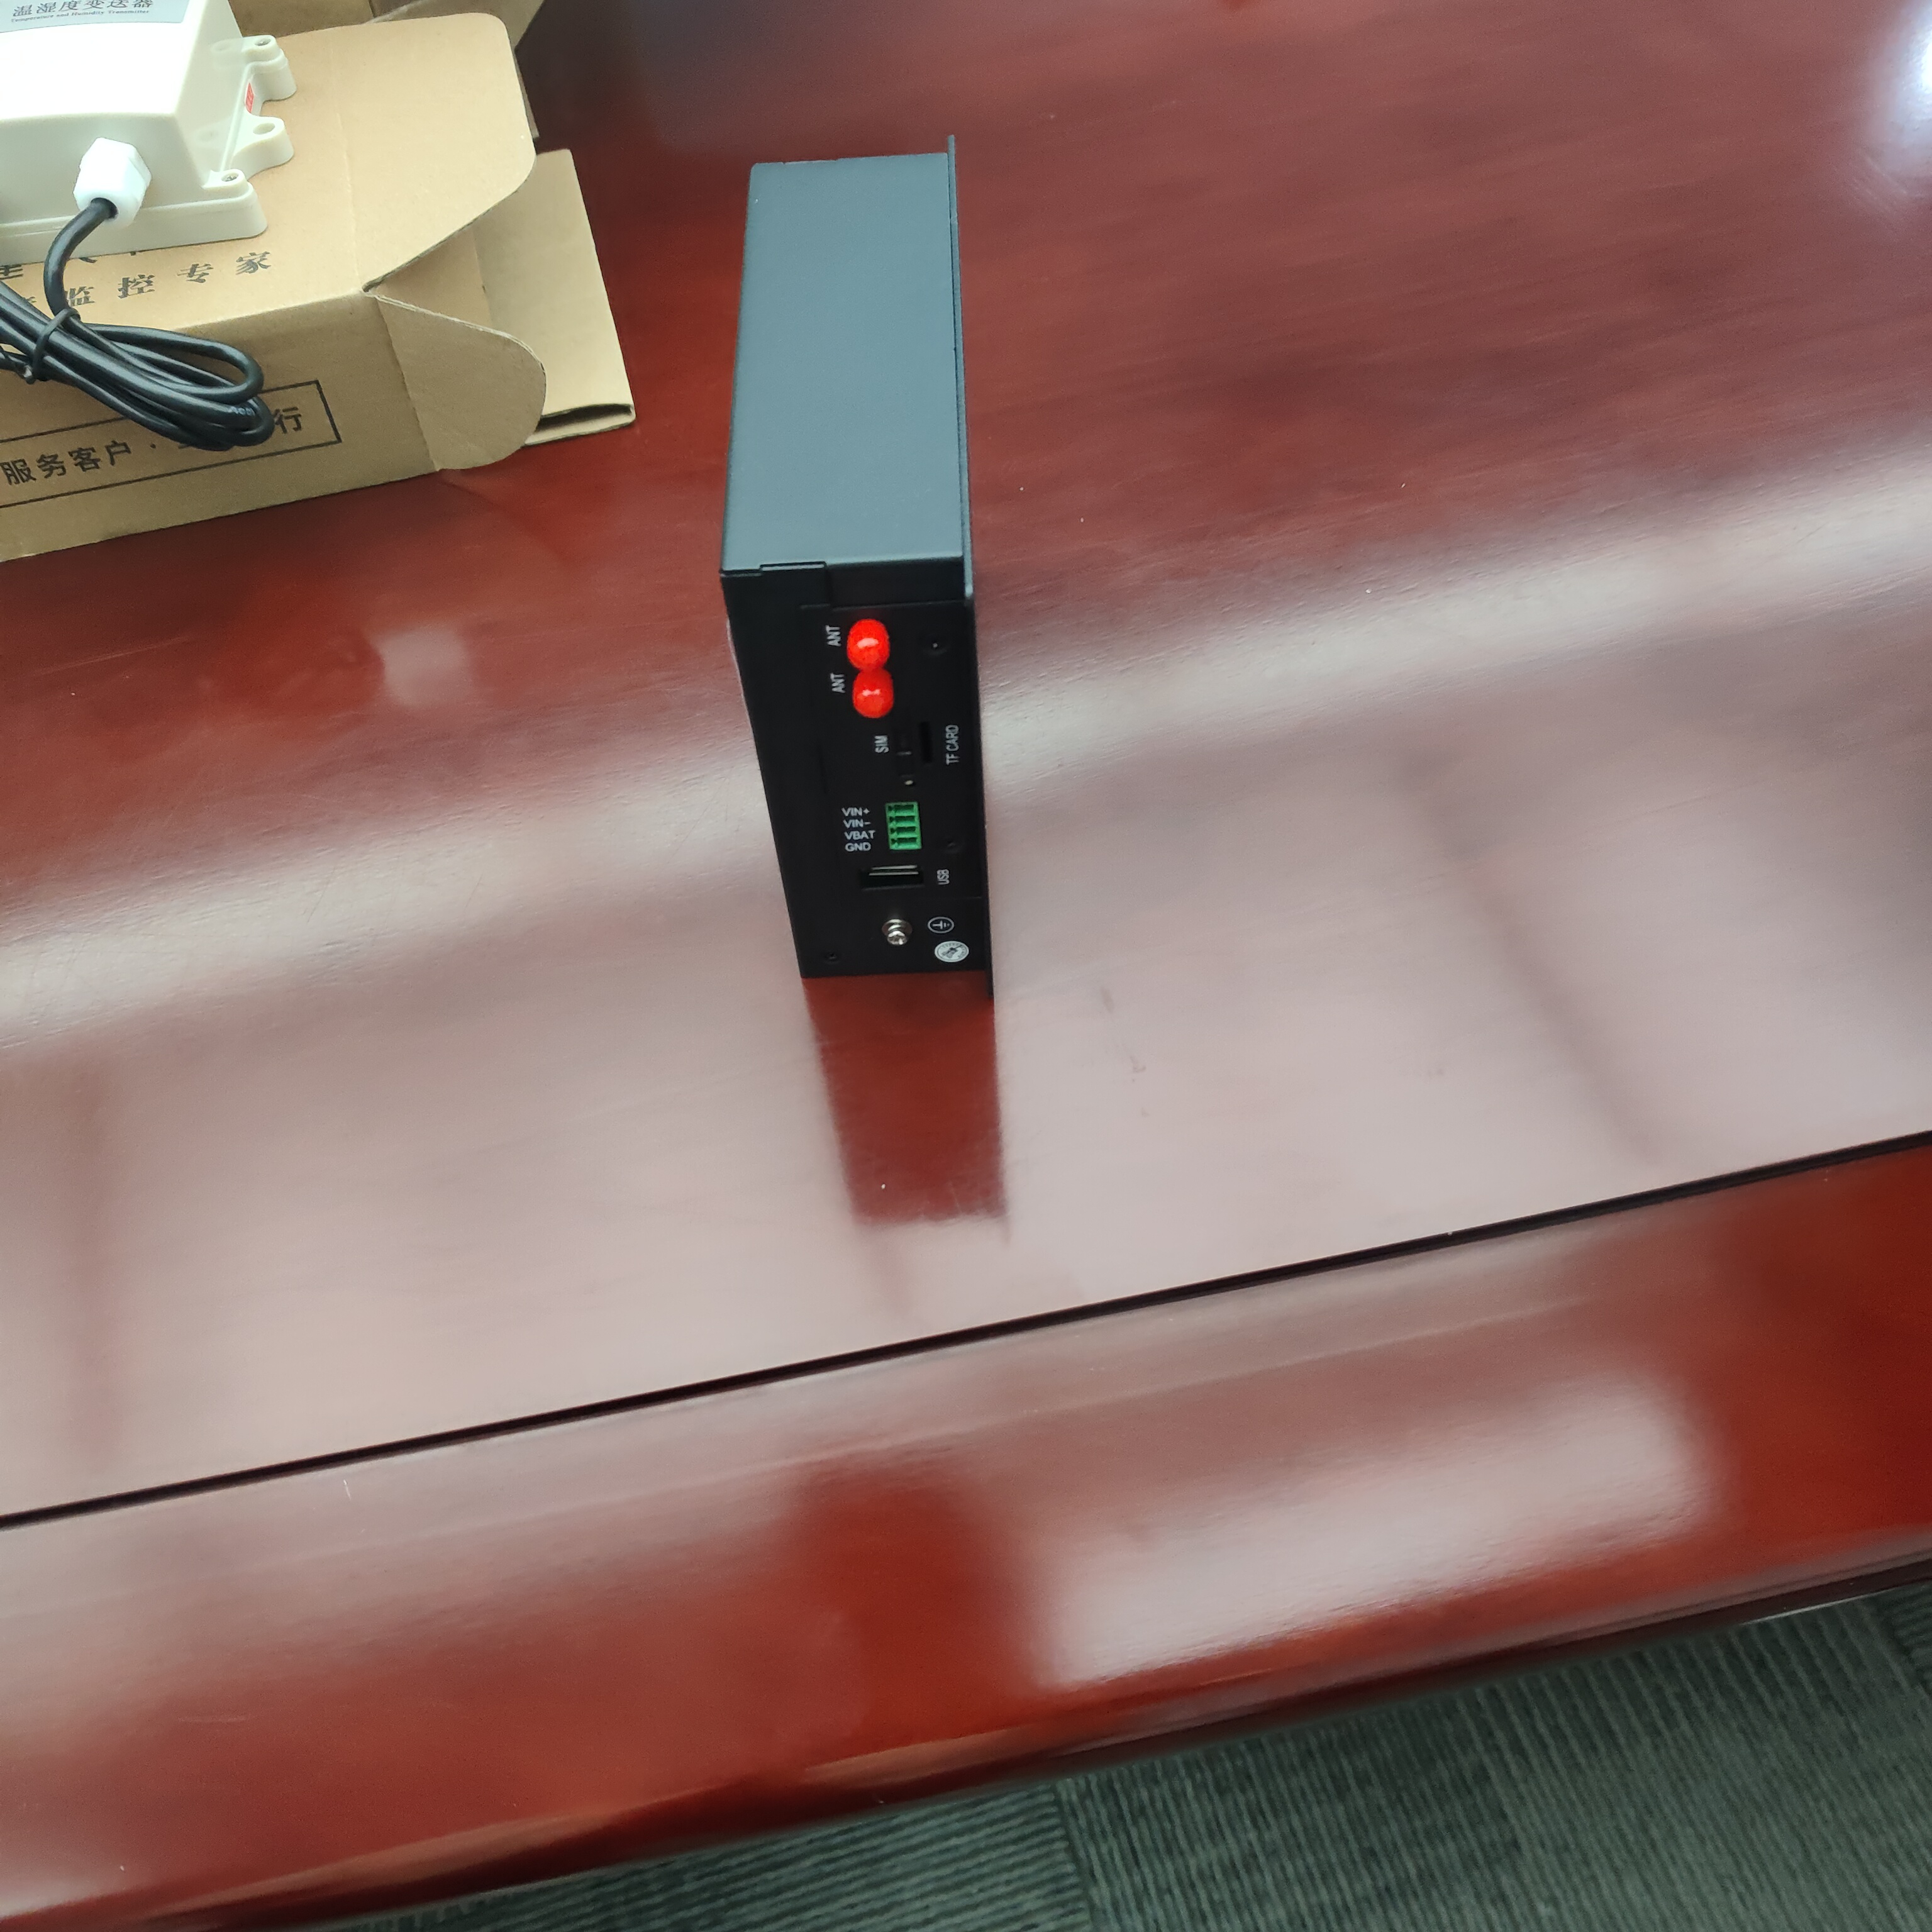slyczd: (717, 117, 1012, 1014)
